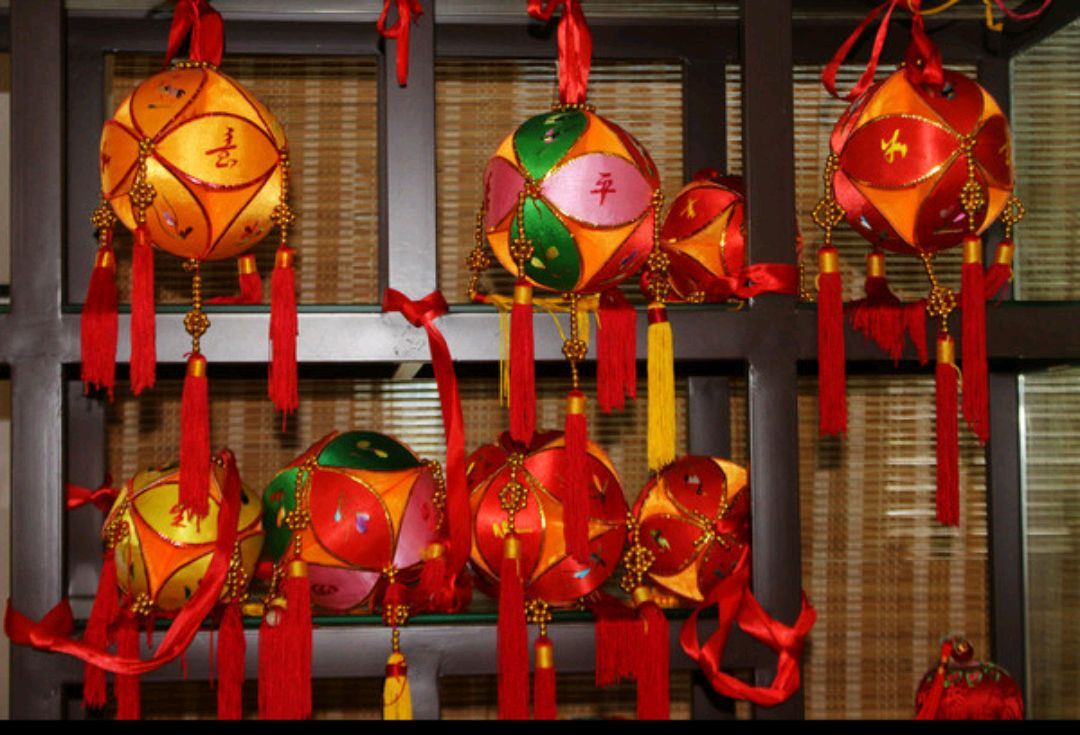xiuqiu: (829, 70, 1012, 263), (447, 428, 627, 605), (270, 429, 440, 616)
